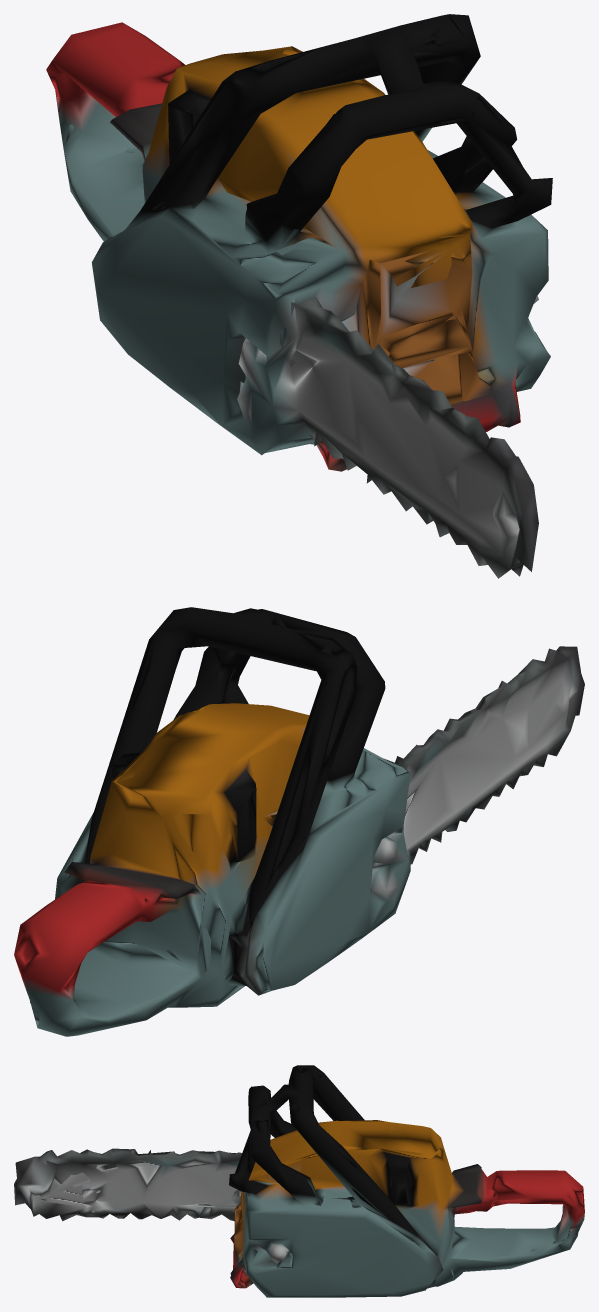
Rendered from gen3d-chainsaw-lod0.glb.
3 renders of one model, top to bottom at view 1: azimuth 30°, elevation 25°; view 2: azimuth 150°, elevation 25°; view 3: azimuth 270°, elevation 25°, orthographic. The views are drawn at different scales.
Parts seen in each view (by area): view 1: part_0; view 2: part_0; view 3: part_0.
Part boxes in pixels (<box>): part_0: <box>46,14,552,578</box>; part_0: <box>14,607,584,1036</box>; part_0: <box>14,1065,584,1297</box>.
Size of the model in its own units: 0.7826 by 0.9924 by 2.68.
